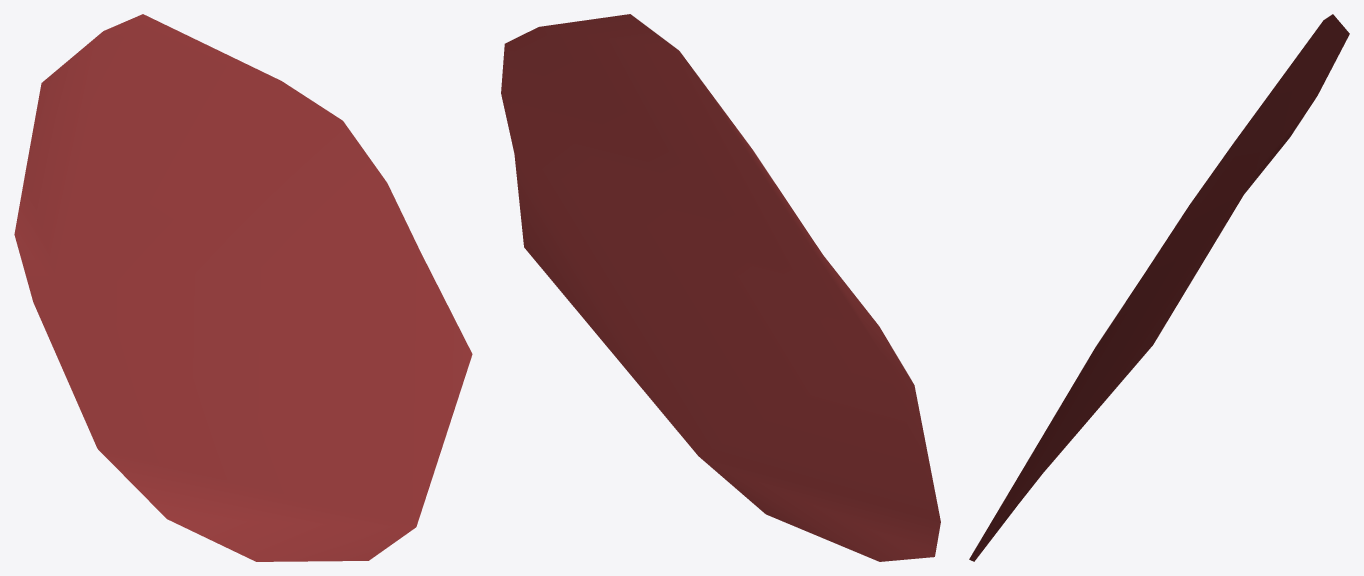
File: pronator-teres-ol.glb
The picture shows the model from 3 angles, left to right: view 1: azimuth 30°, elevation 25°; view 2: azimuth 150°, elevation 25°; view 3: azimuth 270°, elevation 25°; orthographic projection. The views are drawn at different scales.
Parts seen in each view (by area): view 1: Pronator teres.ol; view 2: Pronator teres.ol; view 3: Pronator teres.ol.
Boxes of the visible parts, x1,y1,x2,y2 form: Pronator teres.ol: (14,14,472,561); Pronator teres.ol: (501,14,940,561); Pronator teres.ol: (969,14,1349,561).
Size of the model in its own units: 0.00883 by 0.011 by 0.00756.
